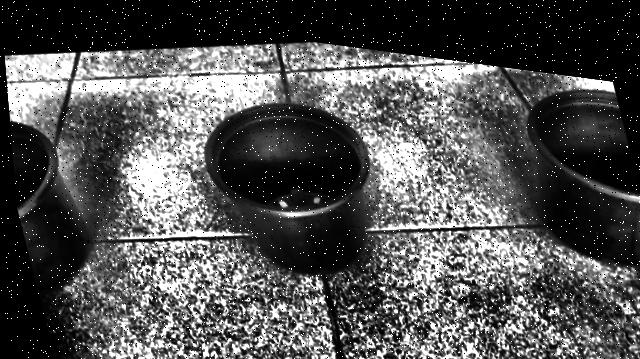pot: (204, 103, 371, 273), (526, 88, 640, 265), (10, 121, 92, 293)
